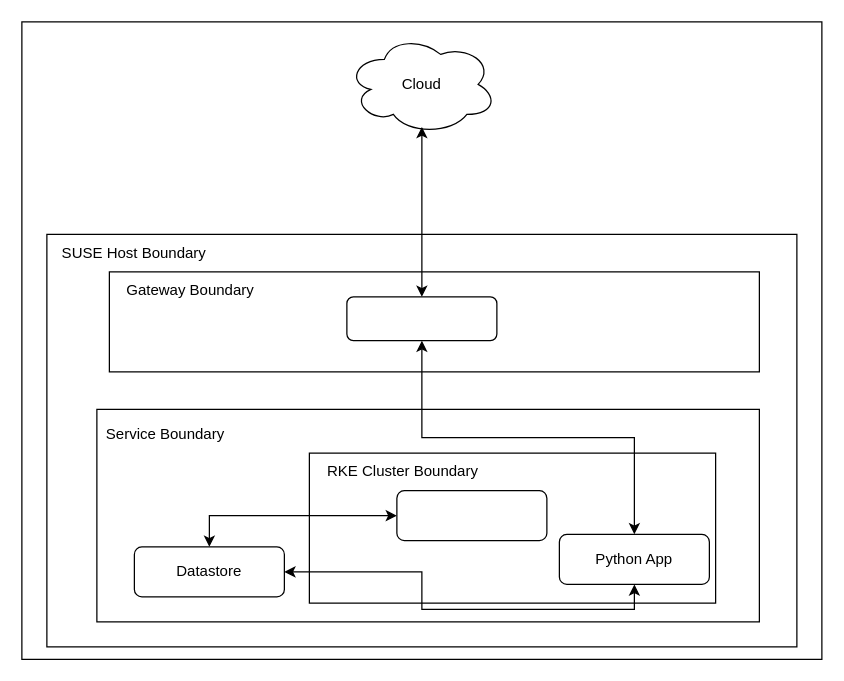
Image size: 844x681. Some labels were removed from this diagram. The shapes that lost their labels are listed below. From the top down, each one's centre as x and y in pixels, then its label:
the point at 421,318: API Gateway
the point at 471,515: API
